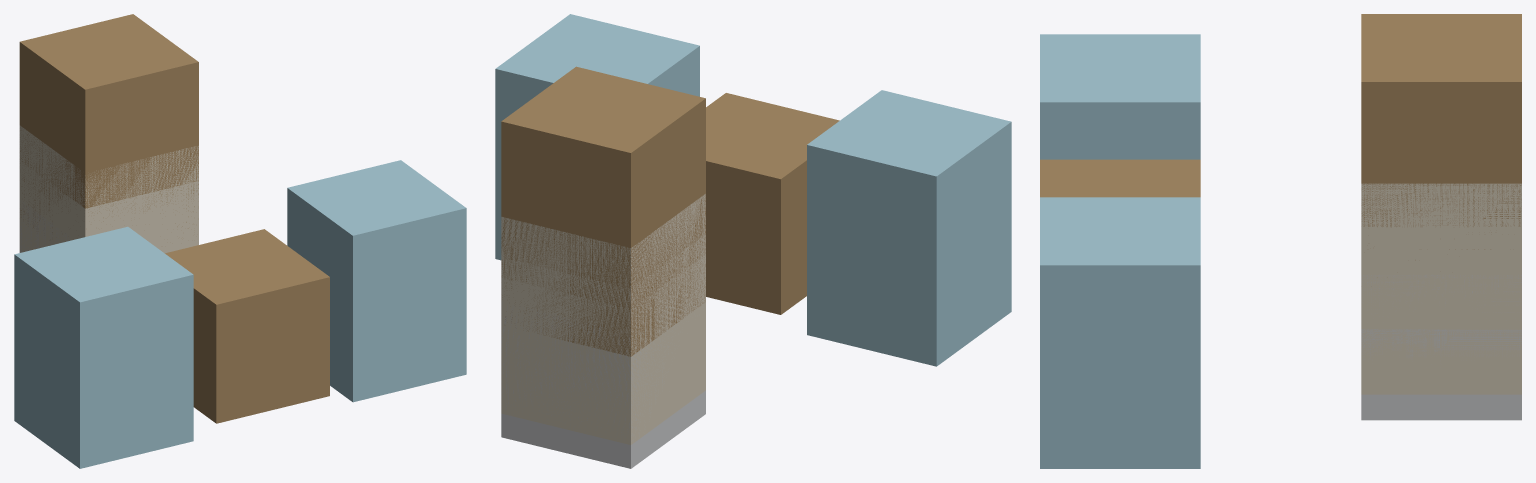
Rendered from bld_bungalow_beige.glb.
The picture shows the model from 3 angles, left to right: view 1: azimuth 30°, elevation 25°; view 2: azimuth 150°, elevation 25°; view 3: azimuth 270°, elevation 25°; orthographic projection. The views are drawn at different scales.
Visible parts, largest first — view 1: world; view 2: world; view 3: world.
Boxes of the visible parts, x1=… form: world: x1=14, y1=14, x2=466, y2=468; world: x1=495, y1=14, x2=1011, y2=468; world: x1=1040, y1=14, x2=1521, y2=468.
Size of the model in its own units: 3.4 by 2.32 by 3.
